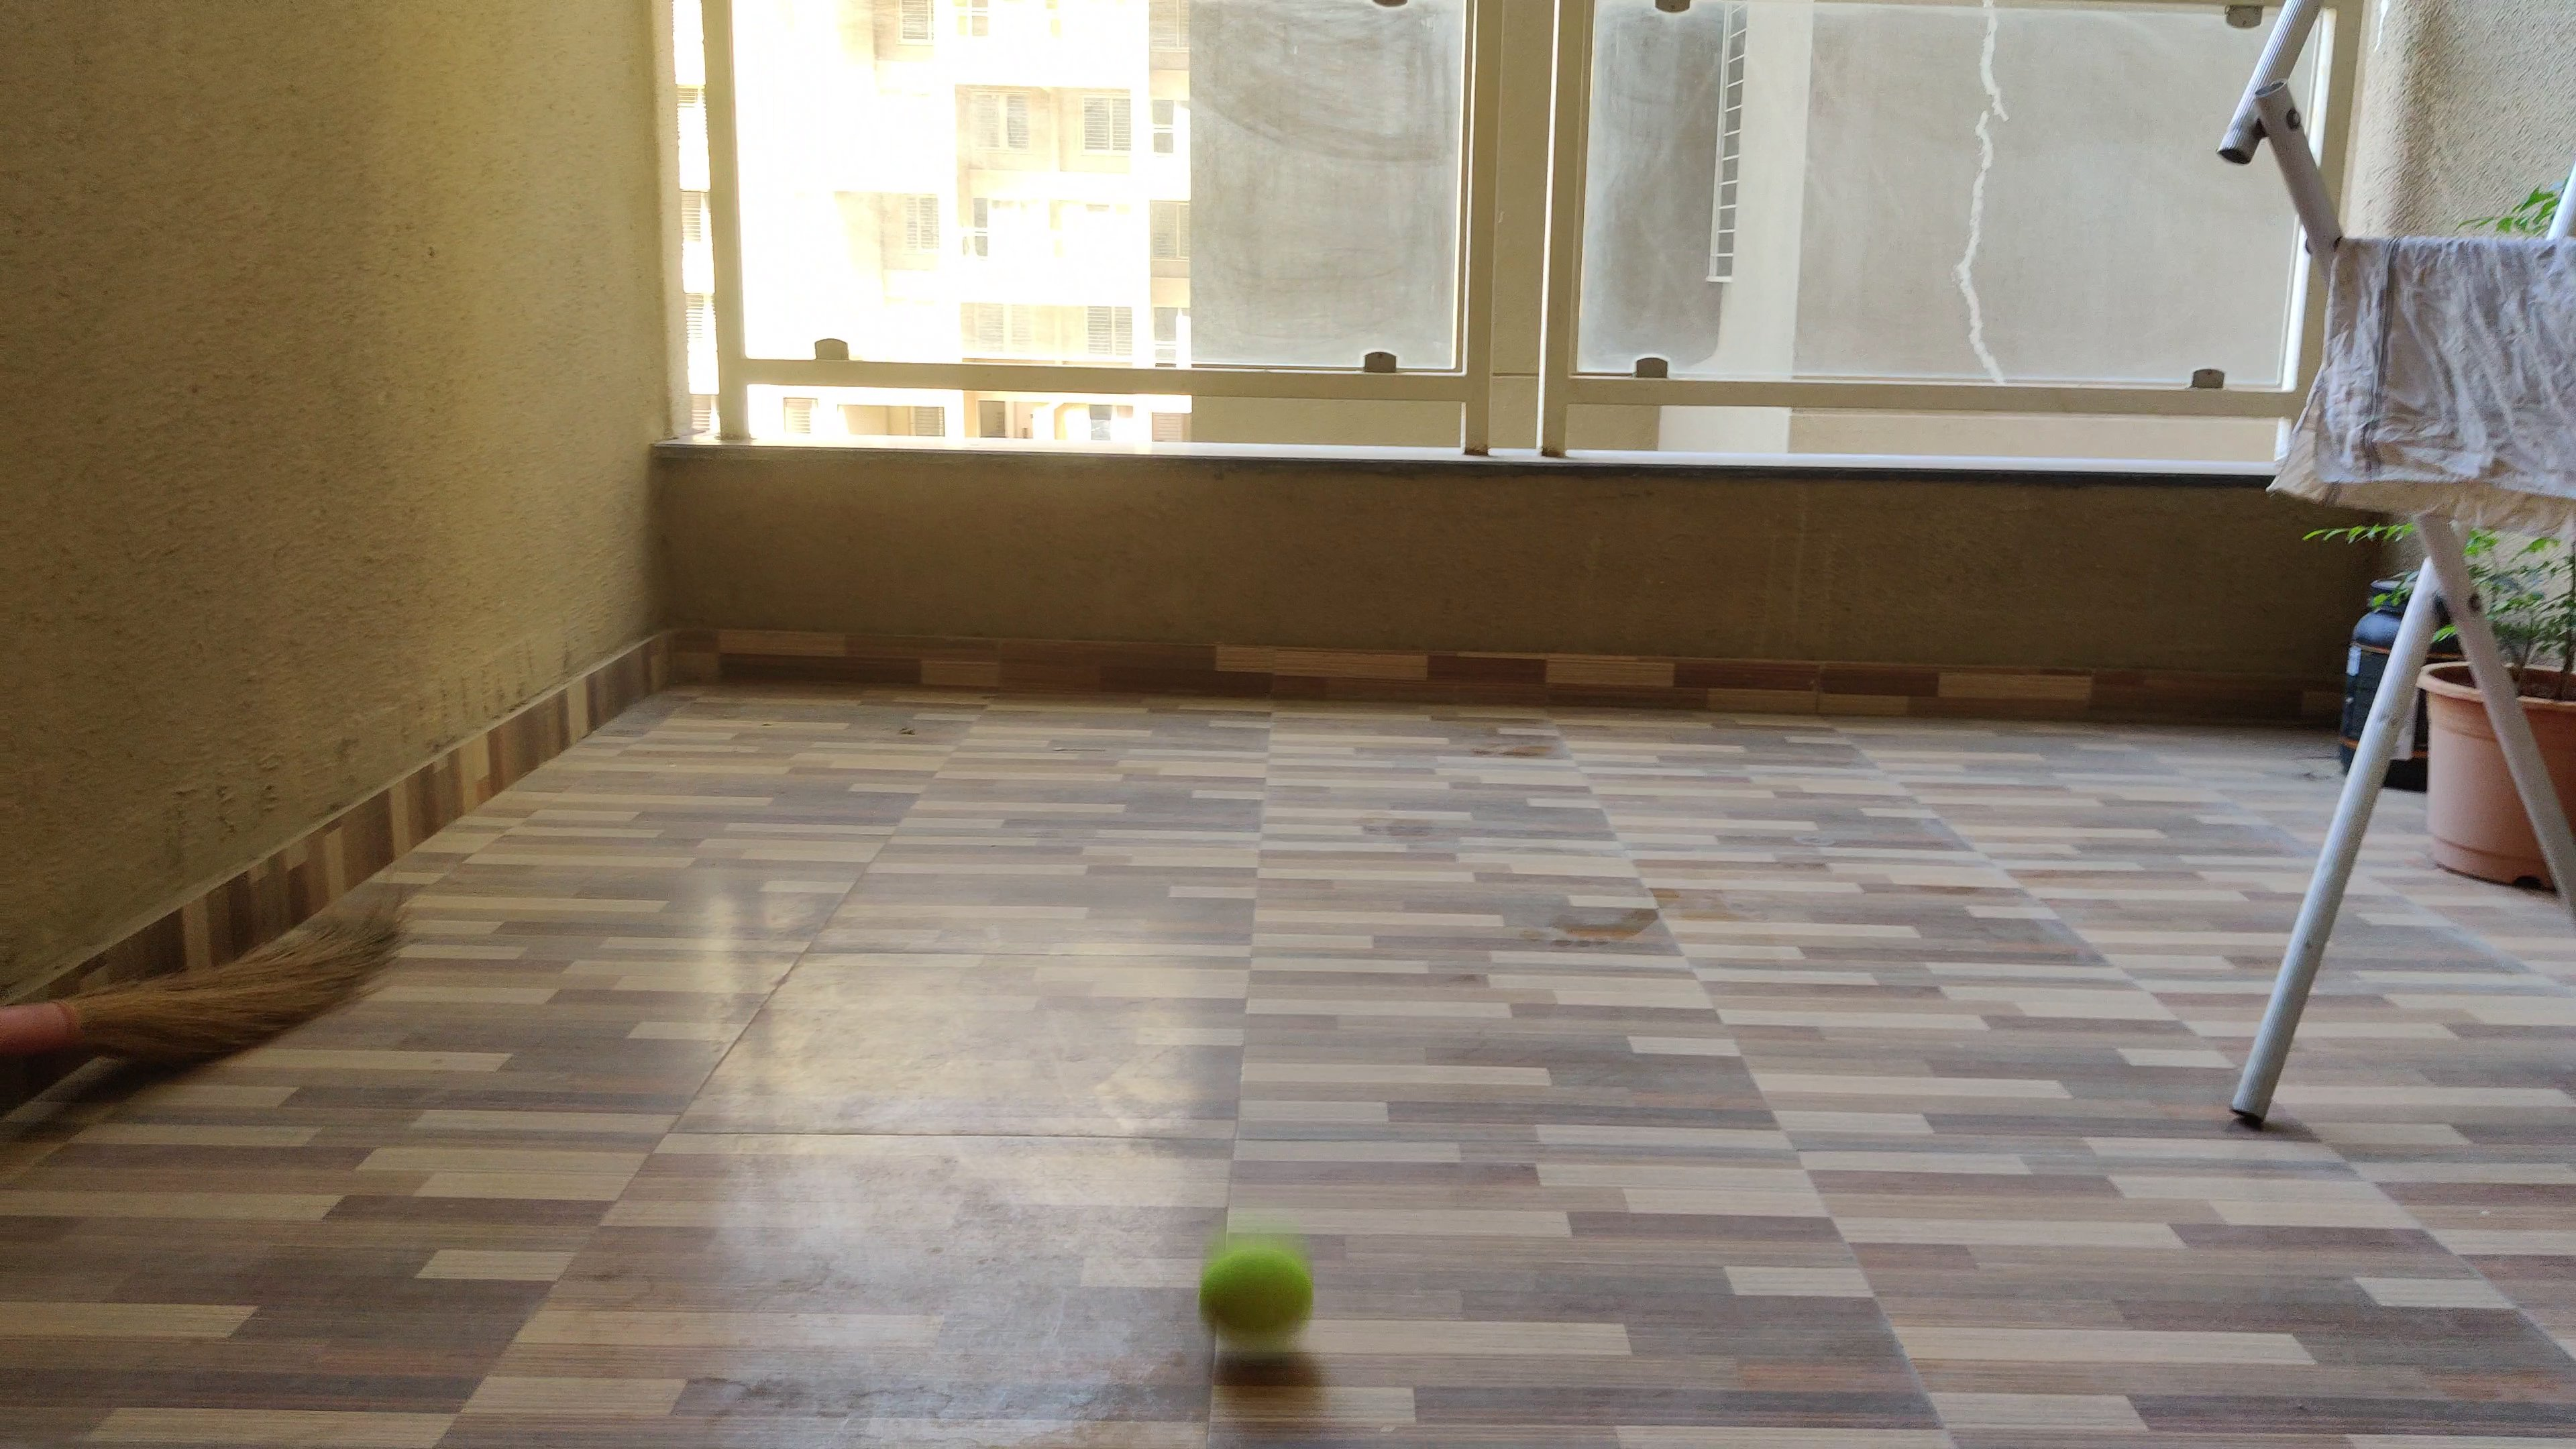Tennis-Ball: (1200, 1235, 1313, 1348)
